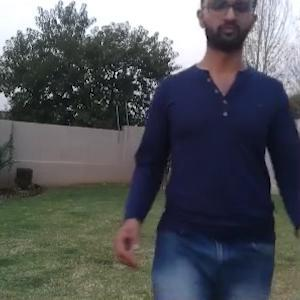follow: (140, 0, 300, 299)
